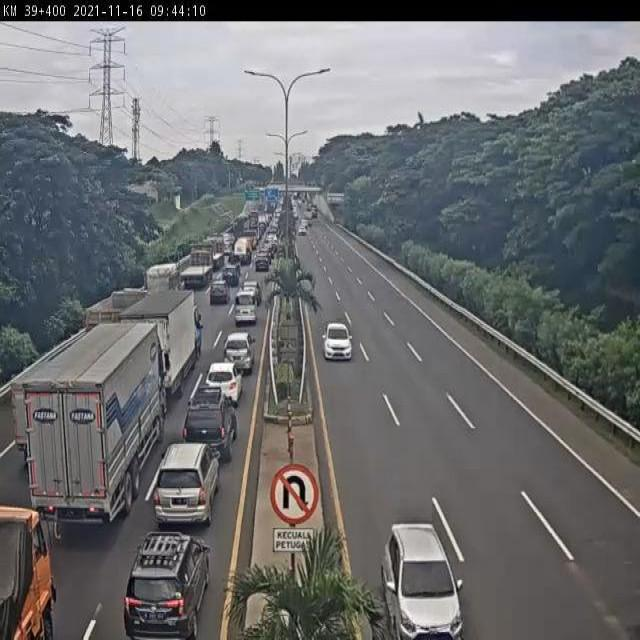car: (375, 513, 471, 640), (125, 522, 218, 640), (148, 438, 229, 530), (182, 391, 248, 464), (319, 313, 356, 368), (205, 356, 244, 404), (222, 326, 259, 374), (234, 283, 260, 328), (205, 277, 232, 311)
truck: (21, 328, 171, 531), (0, 477, 66, 640), (121, 289, 204, 400), (83, 288, 154, 371), (144, 259, 185, 300), (182, 241, 218, 287)
